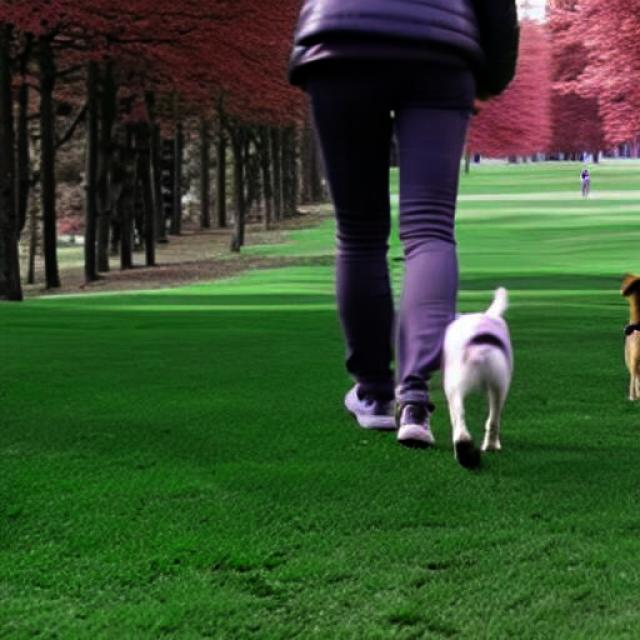Unleashed_Dog: (342, 60, 640, 405), (339, 60, 512, 469)
